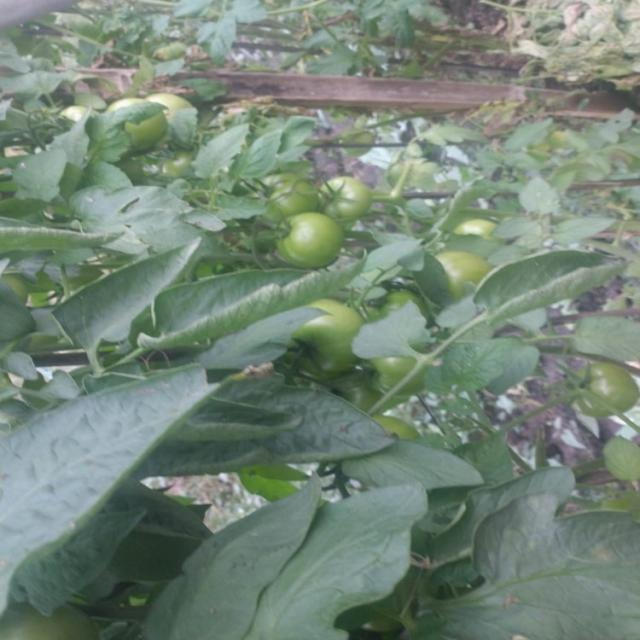tomato: (274, 294, 364, 382), (278, 211, 358, 279), (433, 234, 500, 304), (356, 353, 423, 417), (578, 362, 640, 430), (110, 89, 168, 158), (320, 176, 376, 218), (139, 82, 192, 124), (266, 179, 315, 213), (457, 215, 496, 247)
